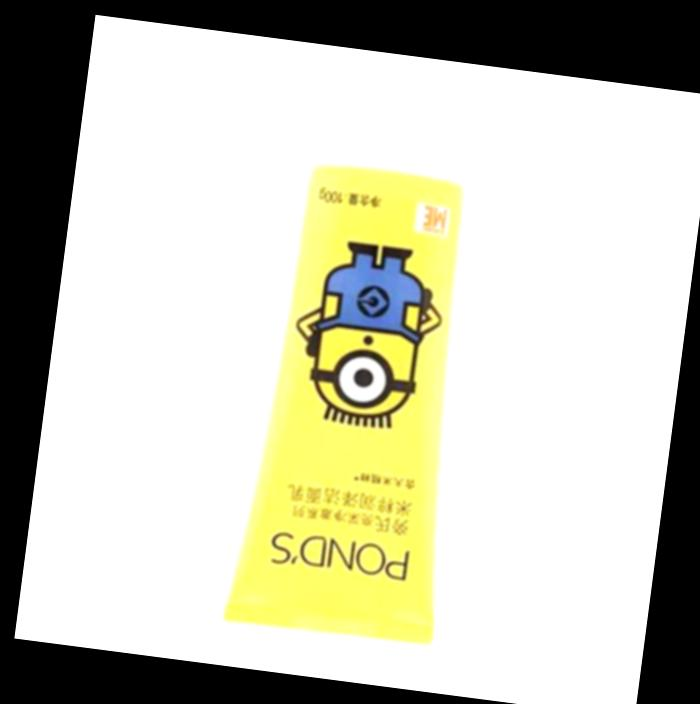cosmetic: (217, 66, 509, 646)
